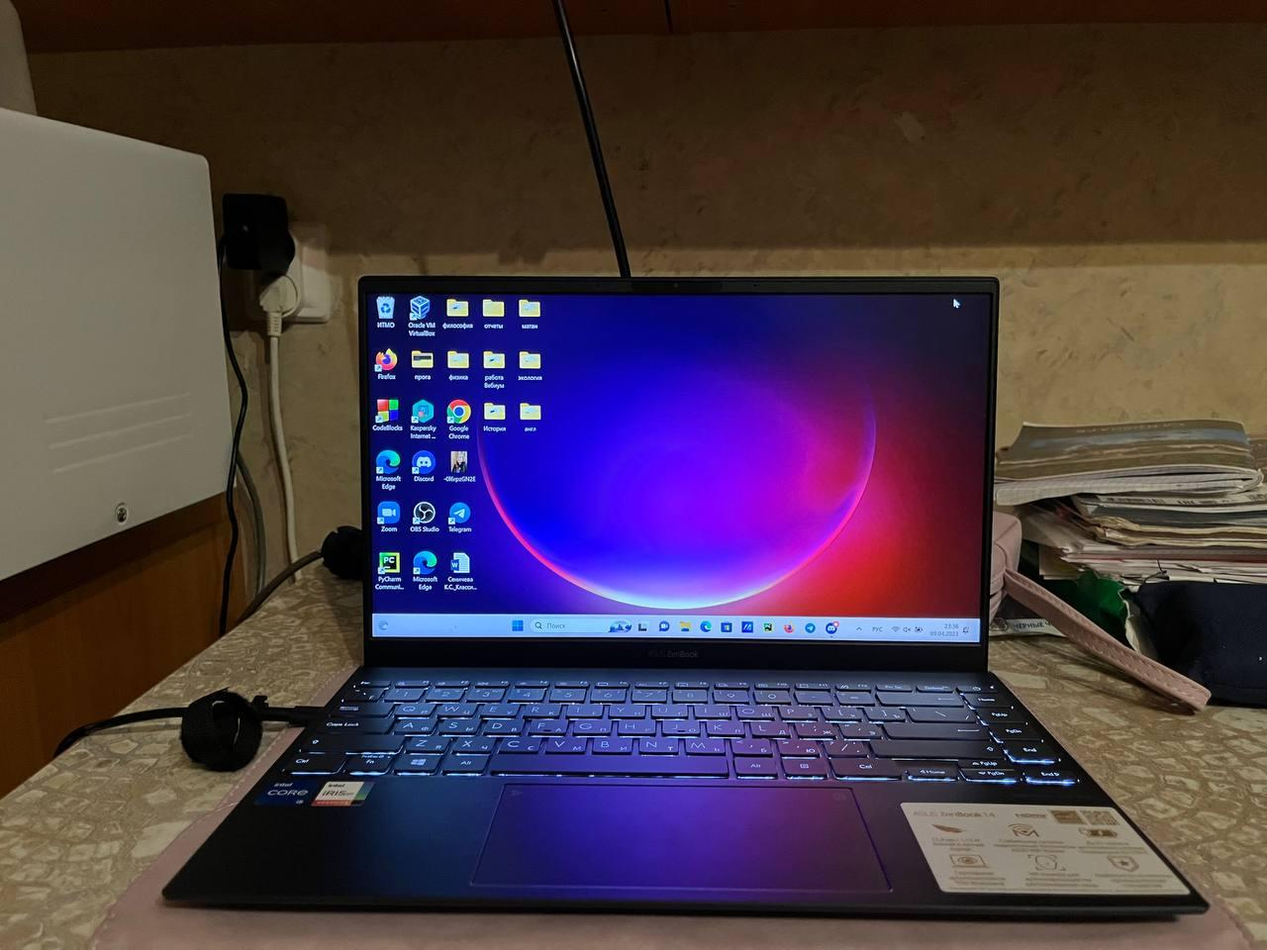monitor: (354, 271, 998, 679)
